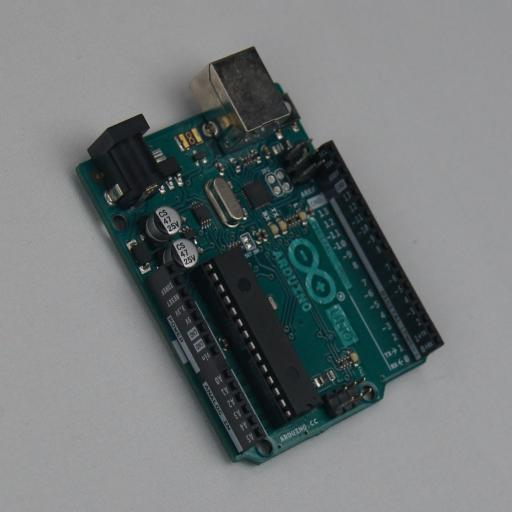Arduino Uno -Green-: (72, 46, 444, 466)
